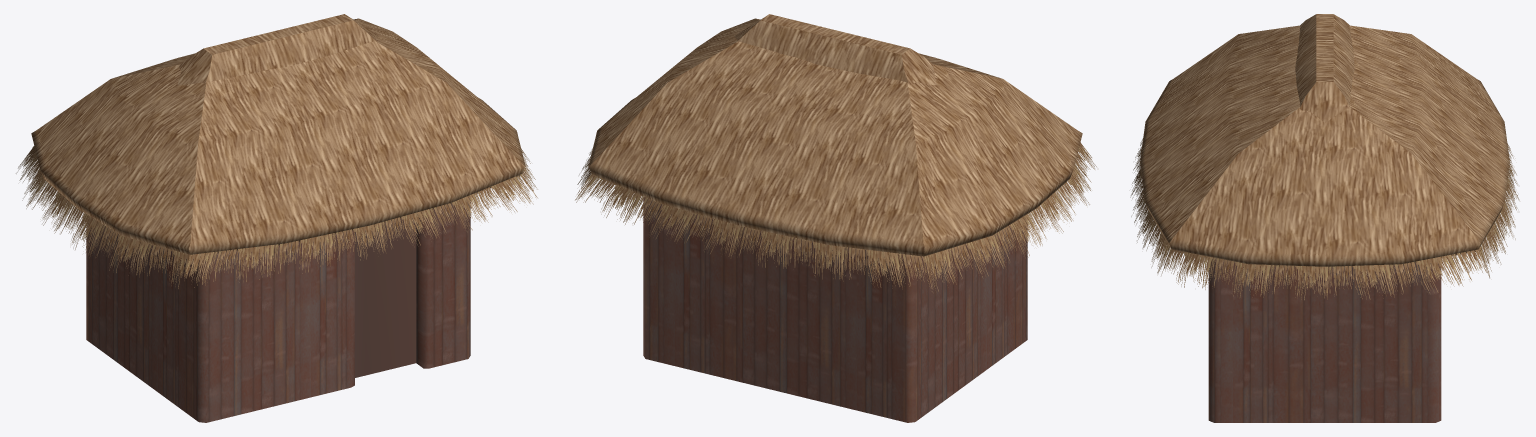
Rendered from hut.glb.
3 views of the same model, side by side, from view 1: azimuth 30°, elevation 25°; view 2: azimuth 150°, elevation 25°; view 3: azimuth 270°, elevation 25° (orthographic).
Visible parts, largest first — view 1: stk_generic_thatch_a.png__, stktex_generic_bambooB.png__, stktex_hayFiber_a.png__; view 2: stk_generic_thatch_a.png__, stktex_generic_bambooB.png__, stktex_hayFiber_a.png__; view 3: stk_generic_thatch_a.png__, stktex_generic_bambooB.png__, stktex_hayFiber_a.png__.
Part boxes in pixels (left/top/right/bottom): stk_generic_thatch_a.png__: left=31, top=14, right=525, bottom=254; stktex_generic_bambooB.png__: left=86, top=198, right=470, bottom=422; stktex_hayFiber_a.png__: left=16, top=146, right=537, bottom=288; stk_generic_thatch_a.png__: left=588, top=14, right=1082, bottom=256; stktex_generic_bambooB.png__: left=643, top=197, right=1027, bottom=422; stktex_hayFiber_a.png__: left=575, top=142, right=1096, bottom=292; stk_generic_thatch_a.png__: left=1140, top=14, right=1509, bottom=268; stktex_generic_bambooB.png__: left=1208, top=259, right=1441, bottom=422; stktex_hayFiber_a.png__: left=1130, top=138, right=1519, bottom=300.
Size of the model in its own units: 8.34 by 5.73 by 6.61.
Materials: 3 (3 with a texture image).
